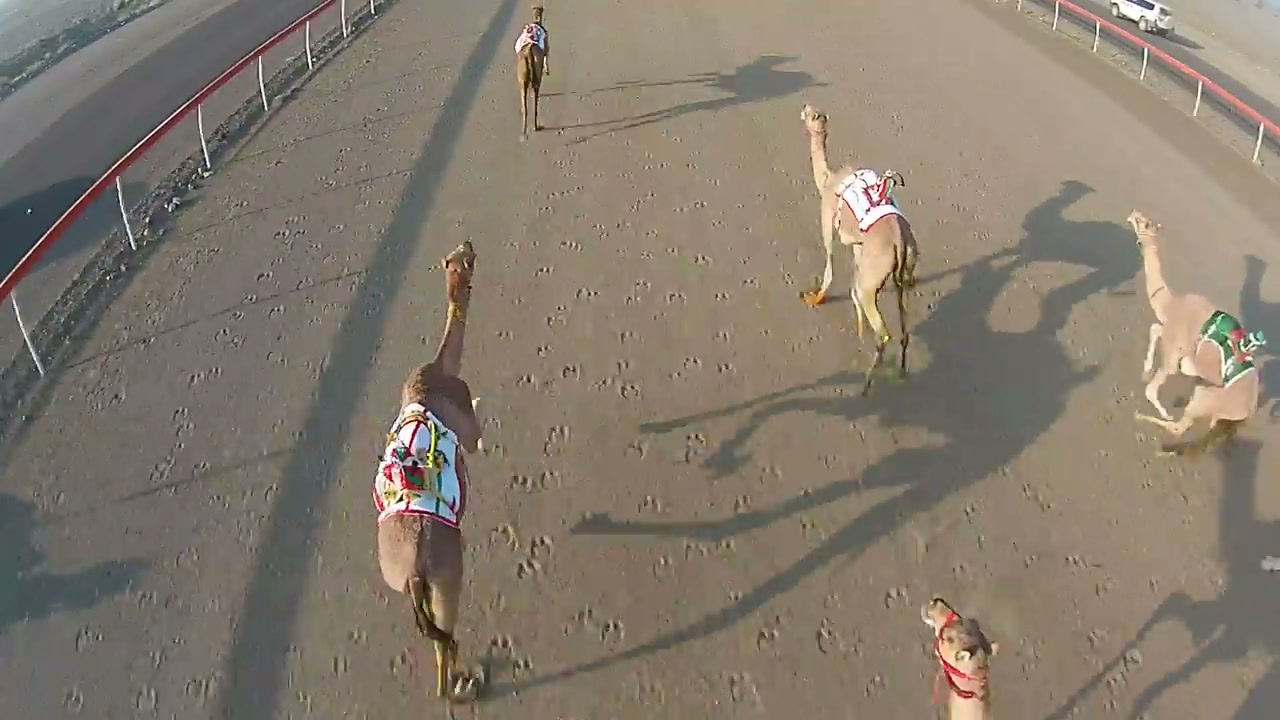animal_footprint: (502, 131, 806, 660)
